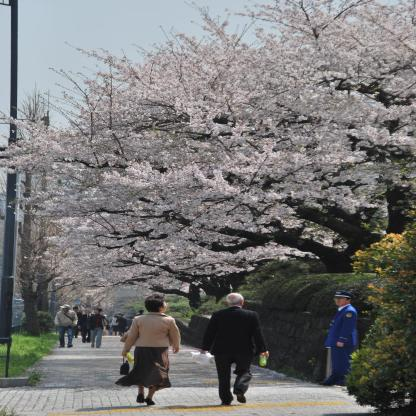Someiyoshino: (8, 0, 416, 305)
